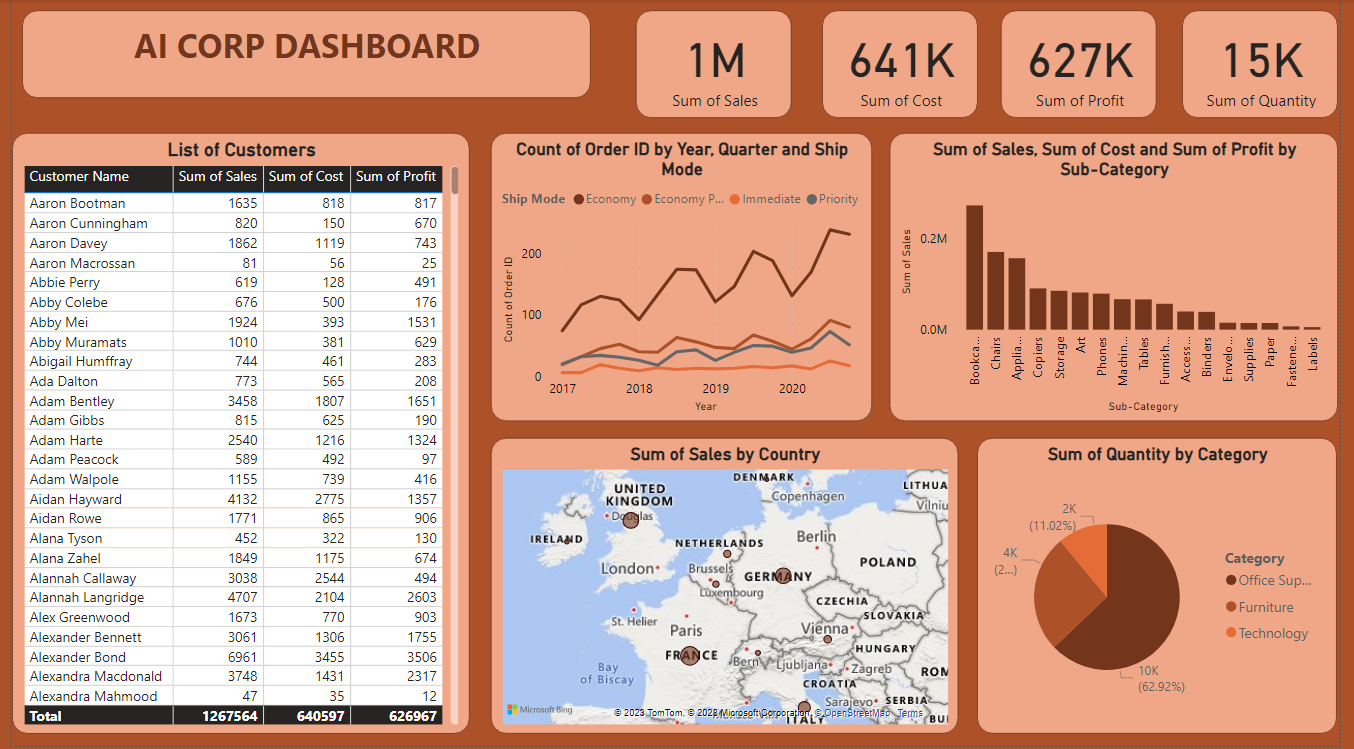

What the dashboard file says about the page in this screenshot:
{"tool":"powerbi","page":{"name":"Page 1","canvas":[1280,720],"ordinal":0},"visuals":[{"type":"tableEx","title":"List of Customers","fields":{"Values":["List of Orders.Customer Name","List of Orders.Sales","List of Orders.Cost","List of Orders.Profit"]},"box":[0,129,441.4,580.1],"z":0},{"type":"clusteredColumnChart","fields":{"Y":["List of Orders.Sales"],"Category":["List of Orders.Sub-Category"]},"box":[846.6,129,433,278.6],"z":1},{"type":"pieChart","fields":{"Y":["List of Orders.Quantity"],"Category":["List of Orders.Category"]},"box":[931.1,423.3,347.3,285.8],"z":2},{"type":"lineChart","fields":{"Y":["List of Orders.Order ID"],"Category":["List of Orders.Order Date.Variation.Date Hierarchy.Year","List of Orders.Order Date.Variation.Date Hierarchy.Quarter"],"Series":["List of Orders.Ship Mode"]},"box":[461.9,129,367.8,278.6],"z":3},{"type":"map","fields":{"Category":["List of Orders.Country"],"Size":["List of Orders.Sales"]},"box":[461.9,423.3,451.1,285.8],"z":4},{"type":"card","fields":{"Values":["List of Orders.Sales"]},"box":[601.8,10.9,150.8,103.7],"z":5},{"type":"card","fields":{"Values":["List of Orders.Cost"]},"box":[781.5,10.9,150.8,103.7],"z":6},{"type":"card","fields":{"Values":["List of Orders.Profit"]},"box":[954,10.9,150.8,103.7],"z":7},{"type":"card","fields":{"Values":["List of Orders.Quantity"]},"box":[1128.8,10.9,150.8,103.7],"z":8},{"type":"textbox","box":[9.6,10.9,548.7,84.4],"z":9}]}

Visuals, with their boxes in screenshot pixels (x1, y1, x2, y2), scaled from the page's 1280x720 canvas onto the 1354x749 screenshot:
"List of Customers" tableEx: detection(0, 134, 467, 738)
clusteredColumnChart - List of Orders.Sales x List of Orders.Sub-Category: detection(896, 134, 1353, 424)
pieChart - List of Orders.Quantity x List of Orders.Category: detection(985, 440, 1352, 738)
lineChart - List of Orders.Order ID x List of Orders.Order Date.Variation.Date Hierarchy.Year: detection(489, 134, 878, 424)
map - List of Orders.Country x List of Orders.Sales: detection(489, 440, 966, 738)
card - List of Orders.Sales: detection(637, 11, 796, 119)
card - List of Orders.Cost: detection(827, 11, 986, 119)
card - List of Orders.Profit: detection(1009, 11, 1169, 119)
card - List of Orders.Quantity: detection(1194, 11, 1353, 119)
textbox: detection(10, 11, 591, 99)
